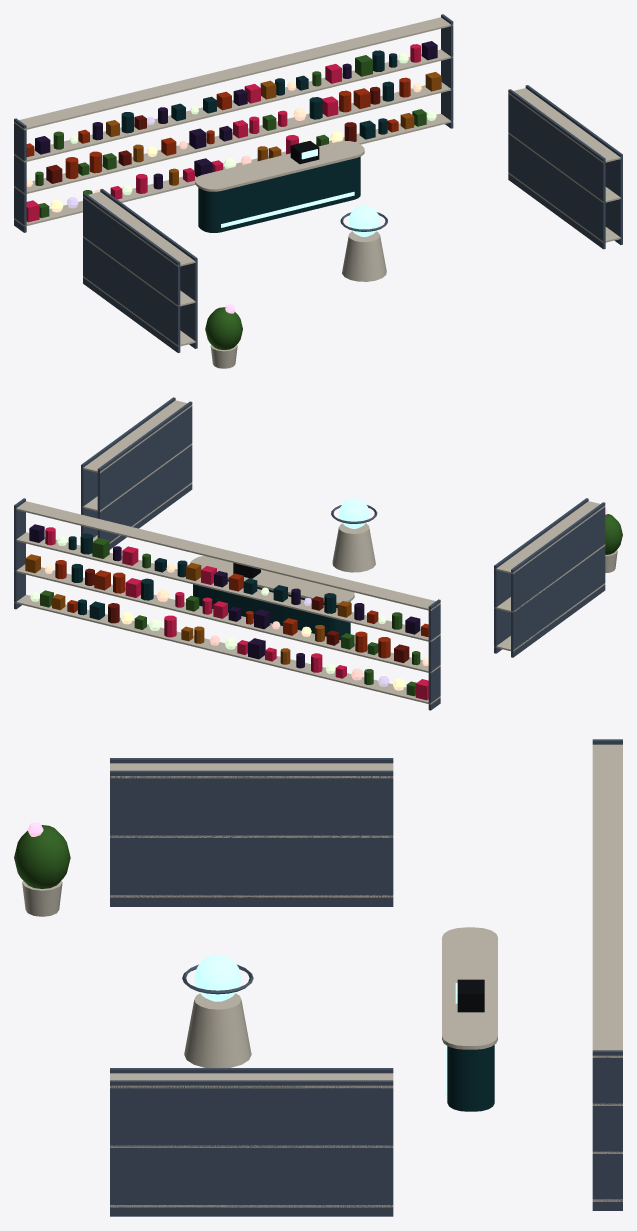
File: fit_shop_3.glb
The picture shows the model from 3 angles, top to bottom: view 1: azimuth 30°, elevation 25°; view 2: azimuth 150°, elevation 25°; view 3: azimuth 270°, elevation 25°; orthographic projection. The views are drawn at different scales.
Visible parts, largest first — view 1: fit_shop_3; view 2: fit_shop_3; view 3: fit_shop_3.
Boxes of the visible parts, x1=… form: fit_shop_3: x1=14, y1=14, x2=622, y2=368; fit_shop_3: x1=14, y1=397, x2=622, y2=710; fit_shop_3: x1=14, y1=739, x2=622, y2=1216.
Size of the model in its own units: 11.36 by 2.6 by 9.02.
